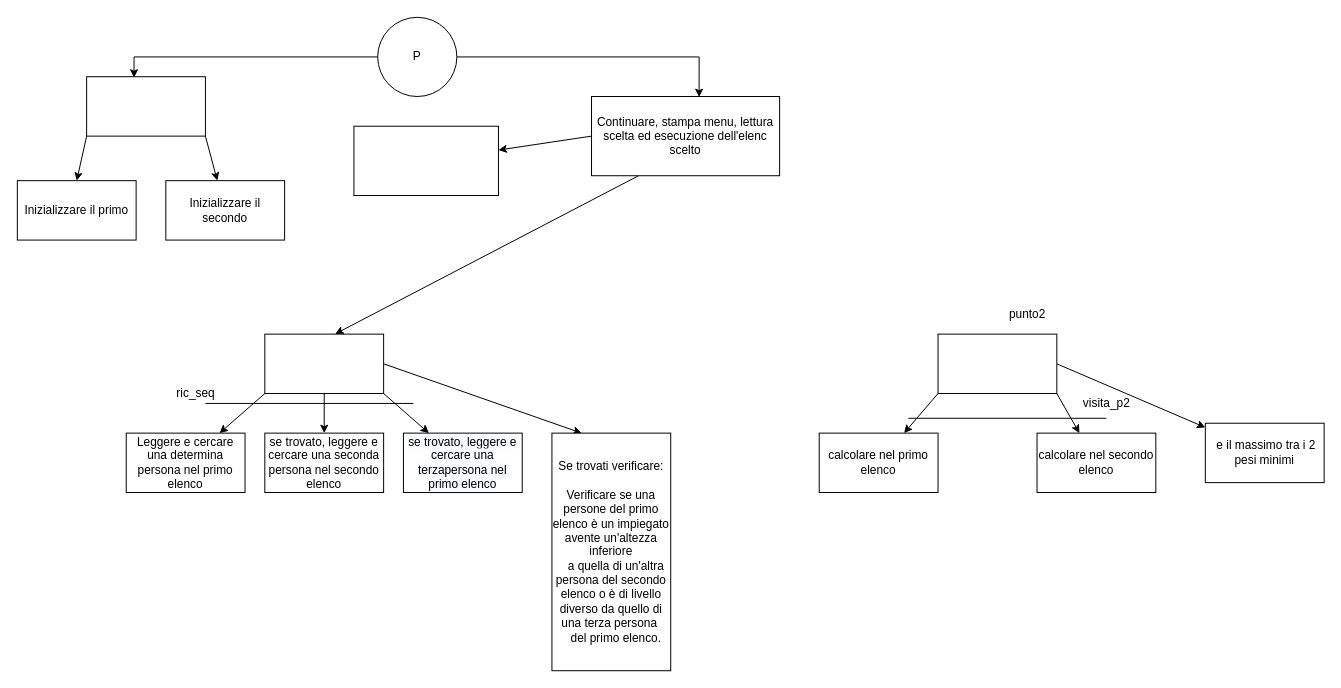
Image size: 1341x688. Some labels were removed from this diagram. Each missing label, with the centre of its shape:
"inizializzare due elenchi di Persona" goes at point 145,106.
"Se scelta vale 1, verificare.. in entrambi gli elenchi, aperti in parallelo." goes at point 324,363.
"Se scelta vale 2, calcolare in entrambi gli elenchi e in totale" goes at point 997,363.
"stampa menu e lettura scelta" goes at point 425,160.
